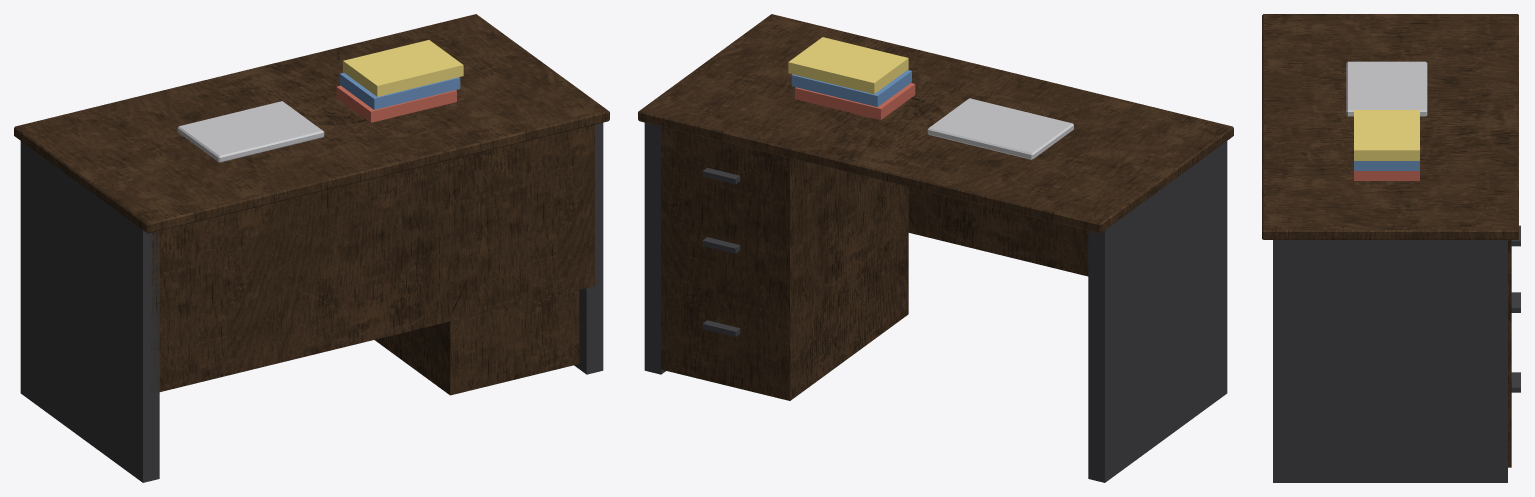
The model's file is teacher_desk.glb.
The picture shows the model from 3 angles, left to right: view 1: azimuth 30°, elevation 25°; view 2: azimuth 150°, elevation 25°; view 3: azimuth 270°, elevation 25°; orthographic projection. The views are drawn at different scales.
Visible parts, largest first — view 1: tint_wood, metal_dark, metal, bk2, bk1, bk0; view 2: tint_wood, metal_dark, metal, bk2, bk1, bk0; view 3: metal_dark, tint_wood, metal, bk2, bk0, bk1.
Boxes of the visible parts, x1,y1,x2,y2 form: tint_wood: (14,14,609,395); metal_dark: (20,122,603,482); metal: (177,101,324,162); bk2: (343,40,463,96); bk1: (339,72,460,109); bk0: (336,85,456,122); tint_wood: (638,14,1233,400); metal_dark: (644,122,1227,482); metal: (927,98,1073,159); bk2: (788,37,908,94); bk1: (791,70,911,106); bk0: (795,83,915,119); metal_dark: (1273,225,1520,482); tint_wood: (1262,14,1518,467); metal: (1346,61,1427,116); bk2: (1354,110,1419,160); bk0: (1354,171,1419,180); bk1: (1354,161,1419,170).
Size of the model in its own units: 1.4 by 0.862 by 0.705.
Materials: 6 (1 with a texture image).
